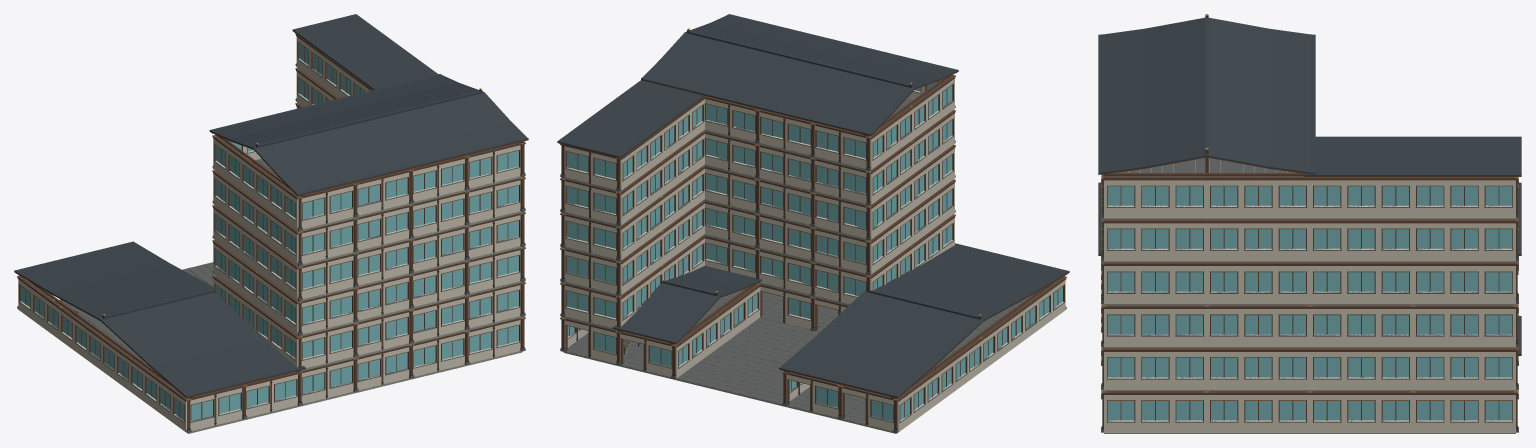
Rendered from visual-far.glb.
3 renders of one model, left to right at view 1: azimuth 30°, elevation 25°; view 2: azimuth 150°, elevation 25°; view 3: azimuth 270°, elevation 25°, orthographic. The views are drawn at different scales.
Parts seen in each view (by area): view 1: 参数墙 · 独立窗玻璃 (×43), 连续屋面 · gable (×2), 连续屋面 · flat; view 2: 参数墙 · 独立窗玻璃 (×46), 连续屋面 · gable (×3), 石铺面与混凝土楼板 (×6), 参数墙 · 通行门洞 (×5), 连续屋面 · flat; view 3: 参数墙 · 独立窗玻璃 (×24), 连续屋面 · gable (×2), 连续屋面 · flat, 石铺面与混凝土楼板 (×2).
Boxes of the visible parts, box(x1,y1,x2,y2) form: 参数墙 · 独立窗玻璃 (×43): box(17, 34, 522, 431); 连续屋面 · gable (×2): box(14, 74, 528, 398); 连续屋面 · flat: box(292, 14, 437, 89); 参数墙 · 独立窗玻璃 (×46): box(563, 76, 1066, 432); 连续屋面 · gable (×3): box(612, 14, 1069, 398); 石铺面与混凝土楼板 (×6): box(563, 298, 865, 420); 参数墙 · 通行门洞 (×5): box(564, 284, 894, 430); 连续屋面 · flat: box(557, 80, 705, 158); 参数墙 · 独立窗玻璃 (×24): box(1104, 176, 1515, 432); 连续屋面 · gable (×2): box(1098, 14, 1521, 255); 连续屋面 · flat: box(1304, 136, 1521, 176); 石铺面与混凝土楼板 (×2): box(1109, 158, 1303, 176).
Size of the model in its own units: 34.8 by 22.68 by 30.4.
15 materials, 15 textured.
